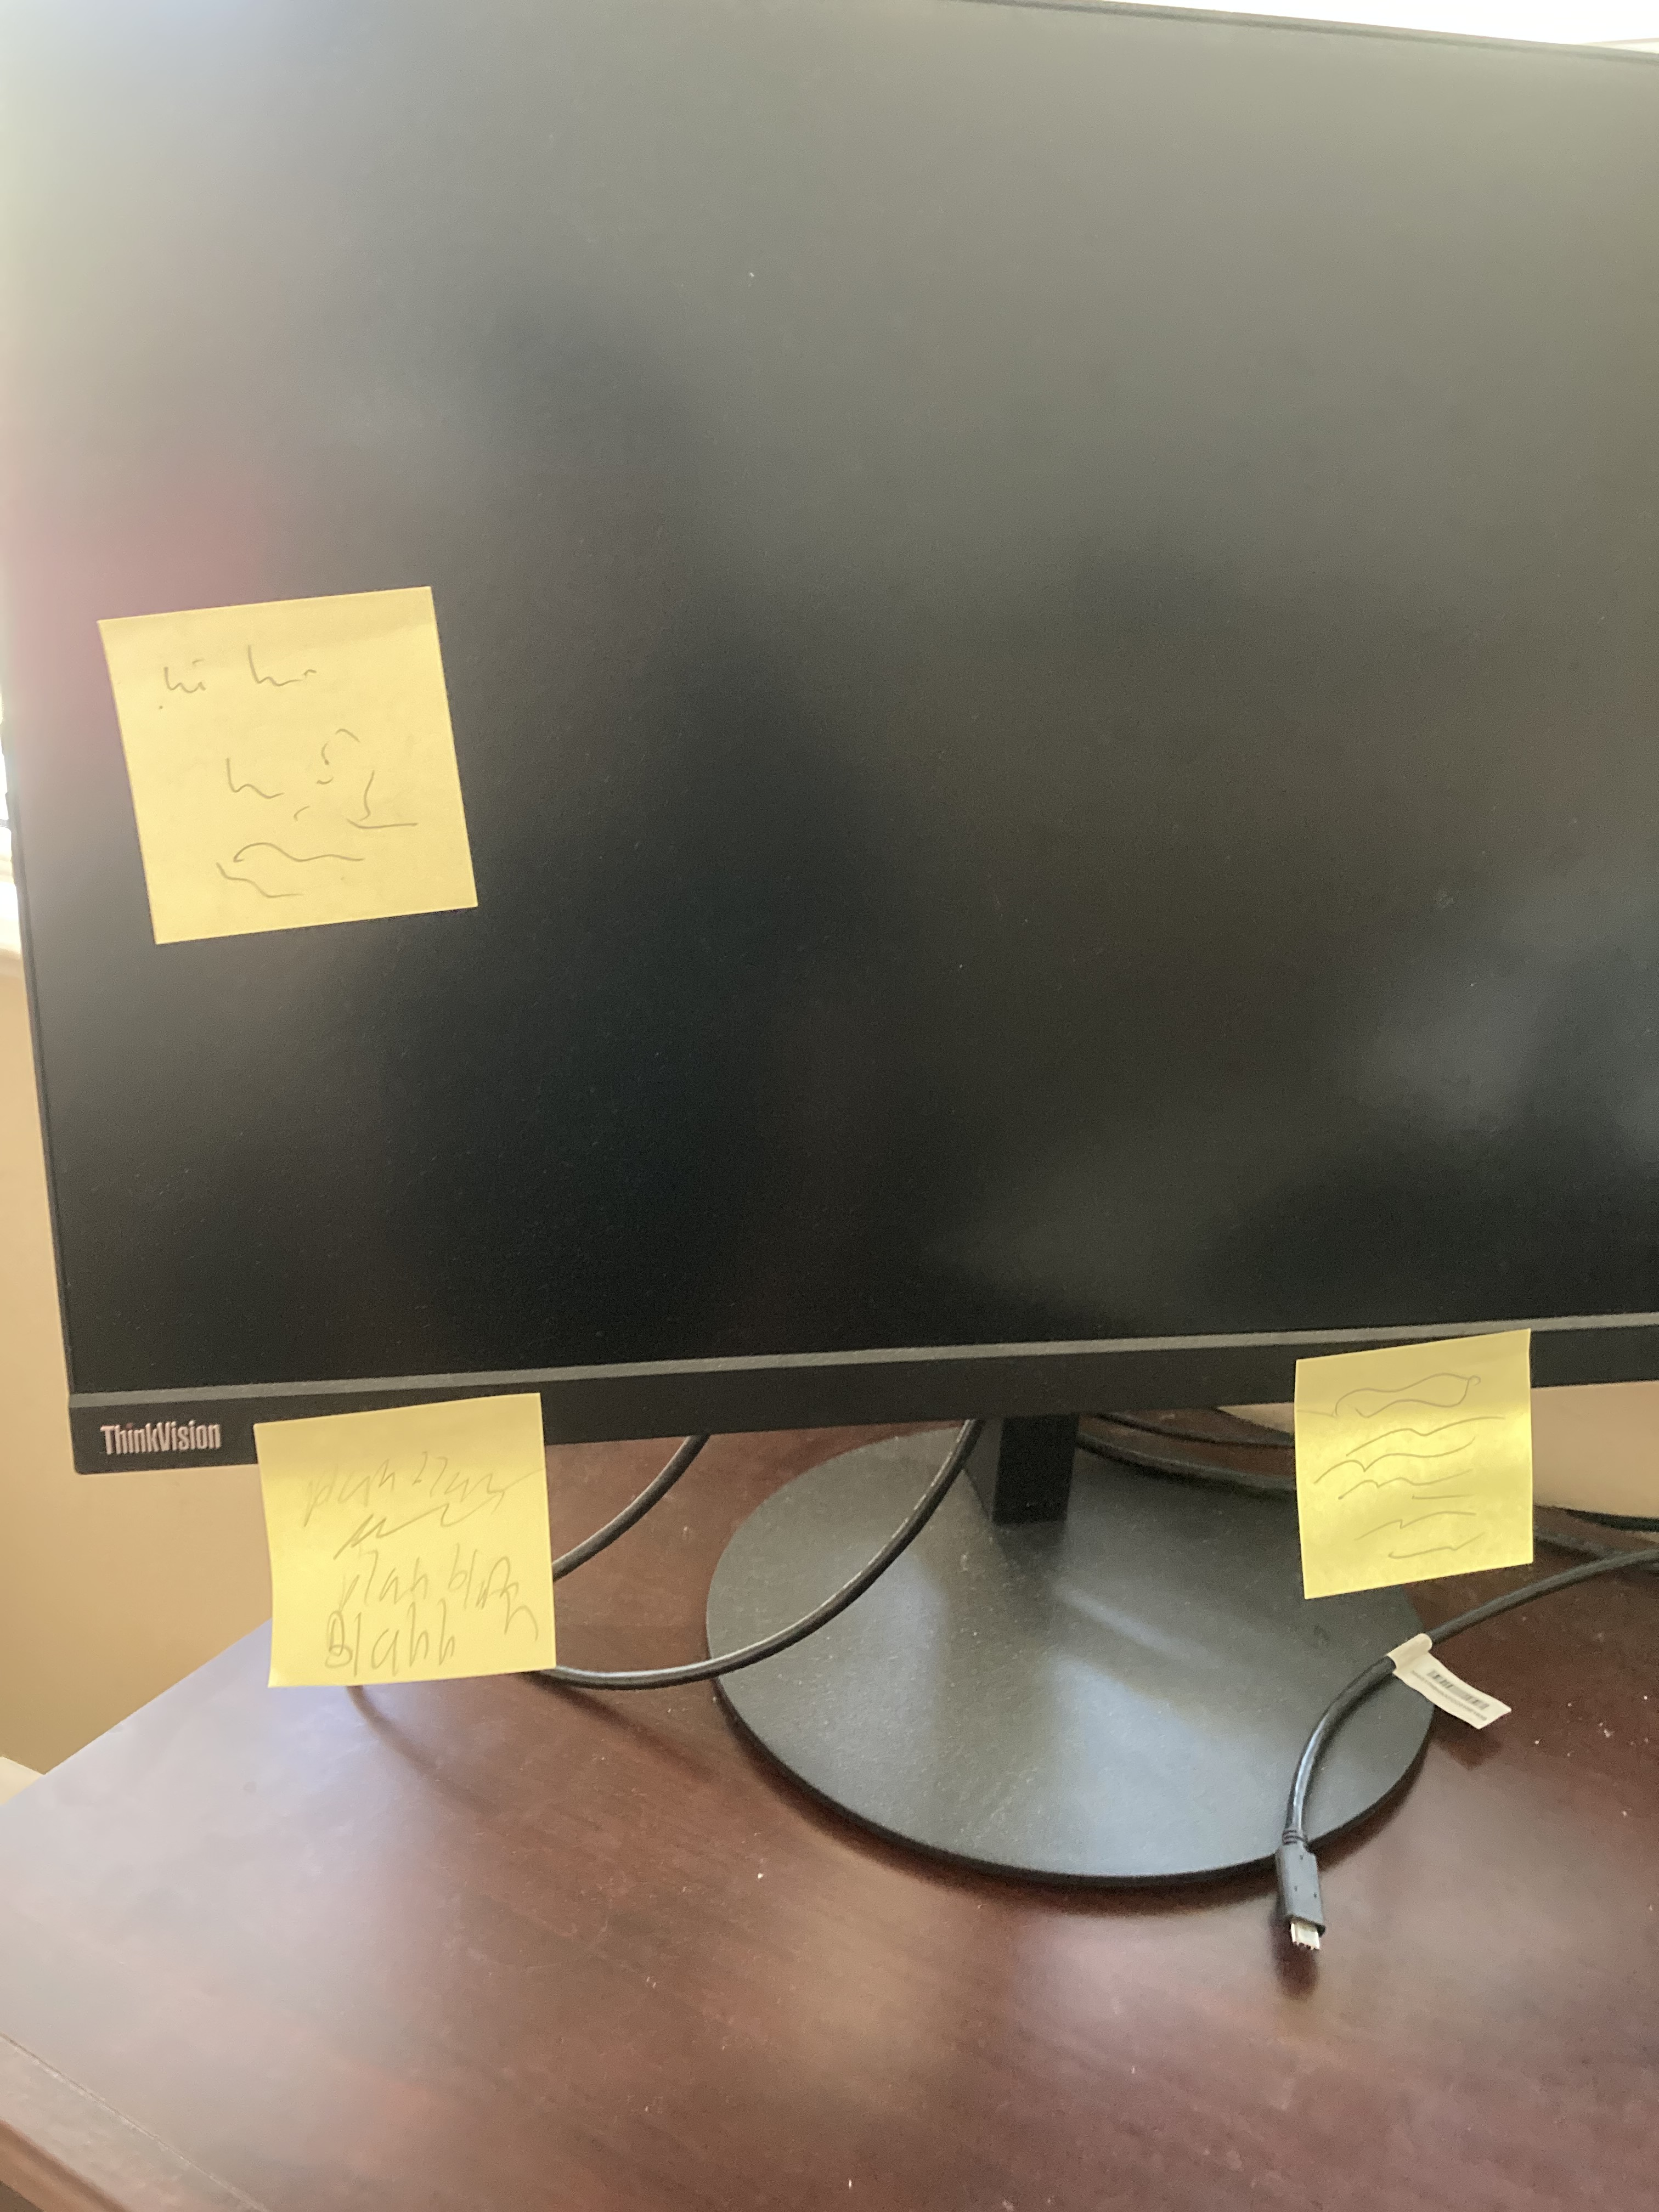Note: (94, 583, 486, 951), (251, 1397, 580, 1679), (1298, 1334, 1541, 1585)
